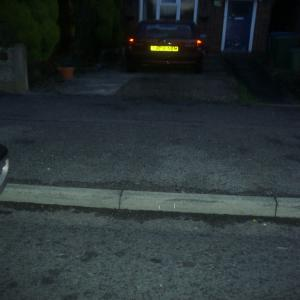Vehicle-registration-plate: (151, 46, 180, 53)
